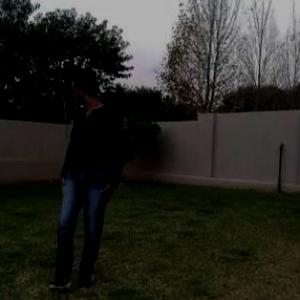follow: (61, 66, 114, 280)
